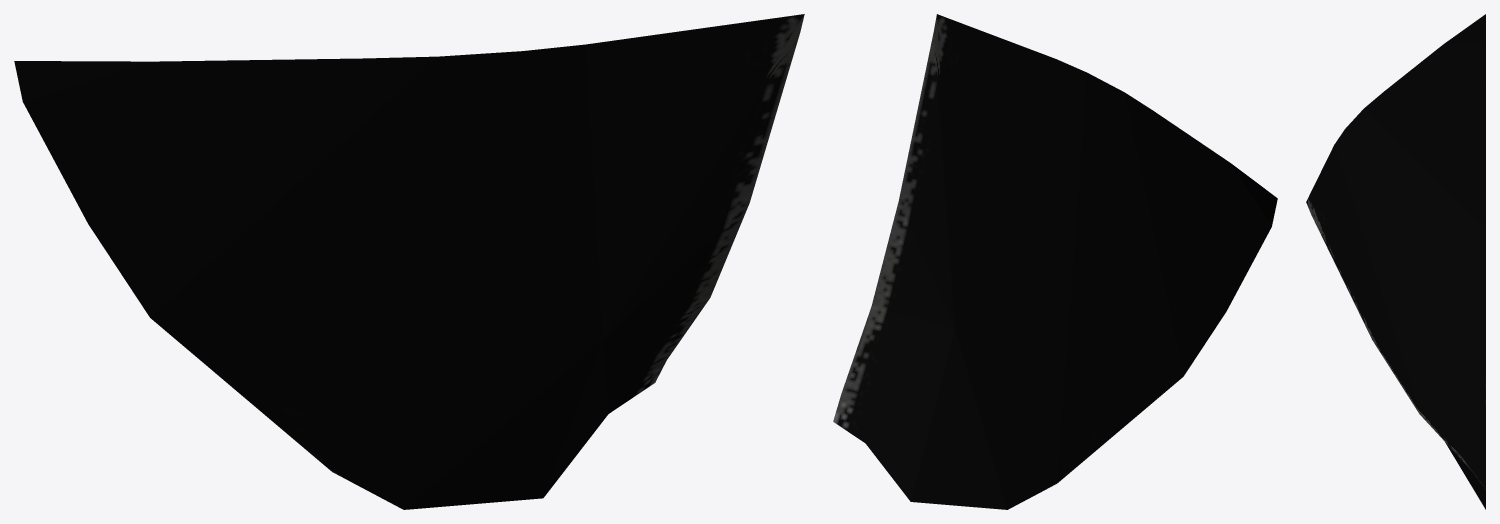
The picture shows the model from 3 angles, left to right: view 1: azimuth 30°, elevation 25°; view 2: azimuth 150°, elevation 25°; view 3: azimuth 270°, elevation 25°; orthographic projection. The views are drawn at different scales.
Size of the model in its own units: 0.8904 by 0.7521 by 0.3598.
Materials: 1 (1 with a texture image).
